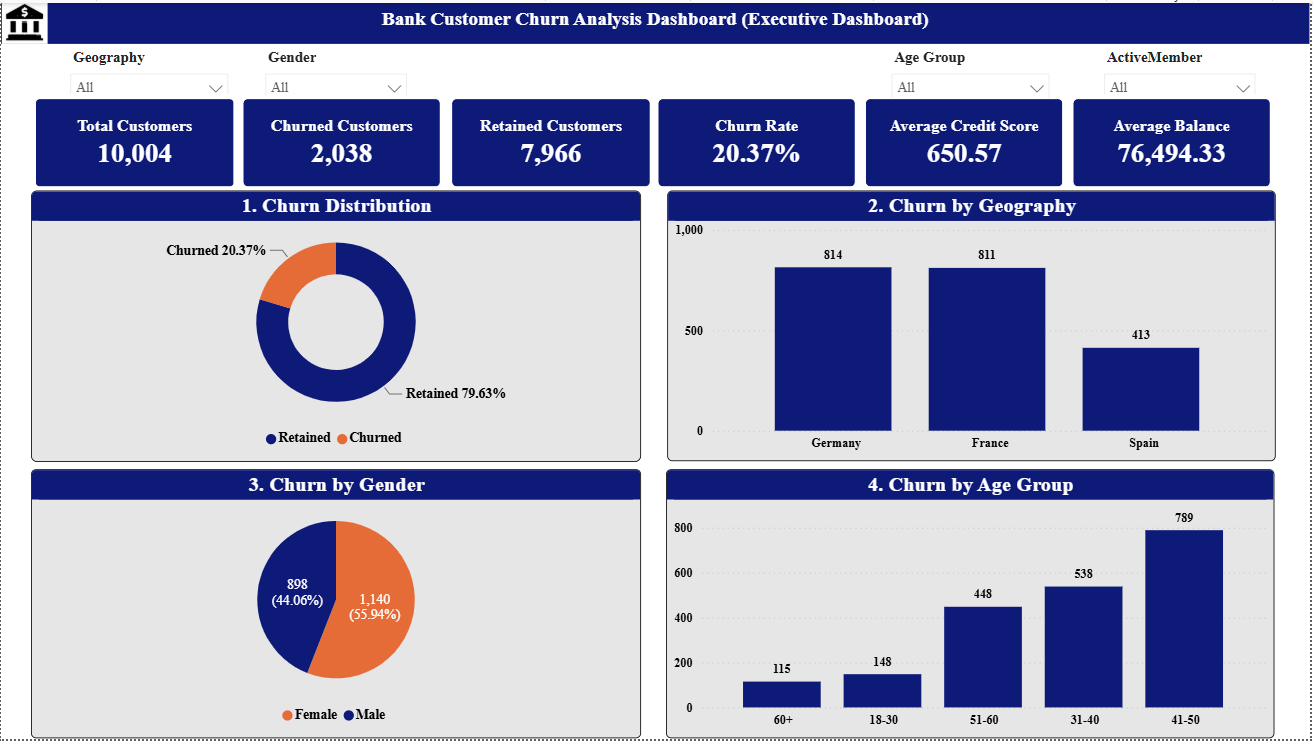

Layout of this report page (visuals, bound fields, positions):
{"tool":"powerbi","page":{"name":"Executive Dashboard","canvas":[1280,720],"ordinal":0},"visuals":[{"type":"textbox","box":[0,0,1280.3,40.4],"z":0},{"type":"image","box":[0,0,46.5,40.4],"z":1000},{"type":"cardVisual","fields":{"Data":["Measures (2).total customers"]},"box":[28.8,88.8,203.8,95],"z":2000},{"type":"cardVisual","fields":{"Data":["Measures (2).Churned Customers"]},"box":[232.5,88.8,202.5,95],"z":3000},{"type":"cardVisual","fields":{"Data":["Measures (2).Retained Customers"]},"box":[436.2,88.8,203.8,95],"z":4000},{"type":"cardVisual","fields":{"Data":["Measures (2).Churn Rate"]},"box":[638.8,88.8,202.5,95],"z":5000},{"type":"cardVisual","fields":{"Data":["Measures (2).Average Credit Score"]},"box":[841.2,88.8,202.5,95],"z":6000},{"type":"cardVisual","fields":{"Data":["Measures (2).Average Balance"]},"box":[1043.8,88.8,202.5,95],"z":7000},{"type":"donutChart","title":"1. Churn Distribution","fields":{"Category":["Info.Churn Status"],"Y":["CountNonNull(Info.CustomerId)"]},"box":[29.3,183.8,596.7,265.4],"z":8000},{"type":"clusteredColumnChart","title":"2. Churn by Geography","fields":{"Category":["Info.Customer_Info.Geography"],"Y":["Measures (2).Churned Customers"]},"box":[651.2,184,595,265],"z":9000},{"type":"pieChart","title":"3. Churn by Gender","fields":{"Category":["Info.Customer_Info.Gender"],"Y":["Measures (2).Churned Customers"]},"box":[29.3,456.5,596.7,262.9],"z":10000},{"type":"columnChart","title":"4. Churn by Age Group","fields":{"Category":["Info.Age Group"],"Y":["Measures (2).Churned Customers"]},"box":[651,456,595,263],"z":11000},{"type":"slicer","fields":{"Values":["Info.Customer_Info.Geography"]},"box":[57.5,40.4,174.9,48.9],"z":12000},{"type":"slicer","fields":{"Values":["Info.Customer_Info.Gender"]},"box":[248.2,40.4,159,50.1],"z":13000},{"type":"slicer","fields":{"Values":["Info.Age Group"]},"box":[860.9,40.4,174.9,52.6],"z":14000},{"type":"slicer","fields":{"Values":["Info.IsActiveMember"]},"box":[1068.8,40.4,168.8,48.9],"z":15000}]}

Visuals, with their boxes in screenshot pixels (x1, y1, x2, y2), scaled from the page's 1280x720 canvas onto the 1313x741 screenshot:
textbox: x1=0 y1=0 x2=1312 y2=42
image: x1=0 y1=0 x2=48 y2=42
cardVisual - Measures (2).total customers: x1=30 y1=91 x2=239 y2=189
cardVisual - Measures (2).Churned Customers: x1=238 y1=91 x2=446 y2=189
cardVisual - Measures (2).Retained Customers: x1=447 y1=91 x2=656 y2=189
cardVisual - Measures (2).Churn Rate: x1=655 y1=91 x2=863 y2=189
cardVisual - Measures (2).Average Credit Score: x1=863 y1=91 x2=1071 y2=189
cardVisual - Measures (2).Average Balance: x1=1071 y1=91 x2=1278 y2=189
"1. Churn Distribution" donutChart: x1=30 y1=189 x2=642 y2=462
"2. Churn by Geography" clusteredColumnChart: x1=668 y1=189 x2=1278 y2=462
"3. Churn by Gender" pieChart: x1=30 y1=470 x2=642 y2=740
"4. Churn by Age Group" columnChart: x1=668 y1=469 x2=1278 y2=740
slicer - Info.Customer_Info.Geography: x1=59 y1=42 x2=238 y2=92
slicer - Info.Customer_Info.Gender: x1=255 y1=42 x2=418 y2=93
slicer - Info.Age Group: x1=883 y1=42 x2=1063 y2=96
slicer - Info.IsActiveMember: x1=1096 y1=42 x2=1270 y2=92
